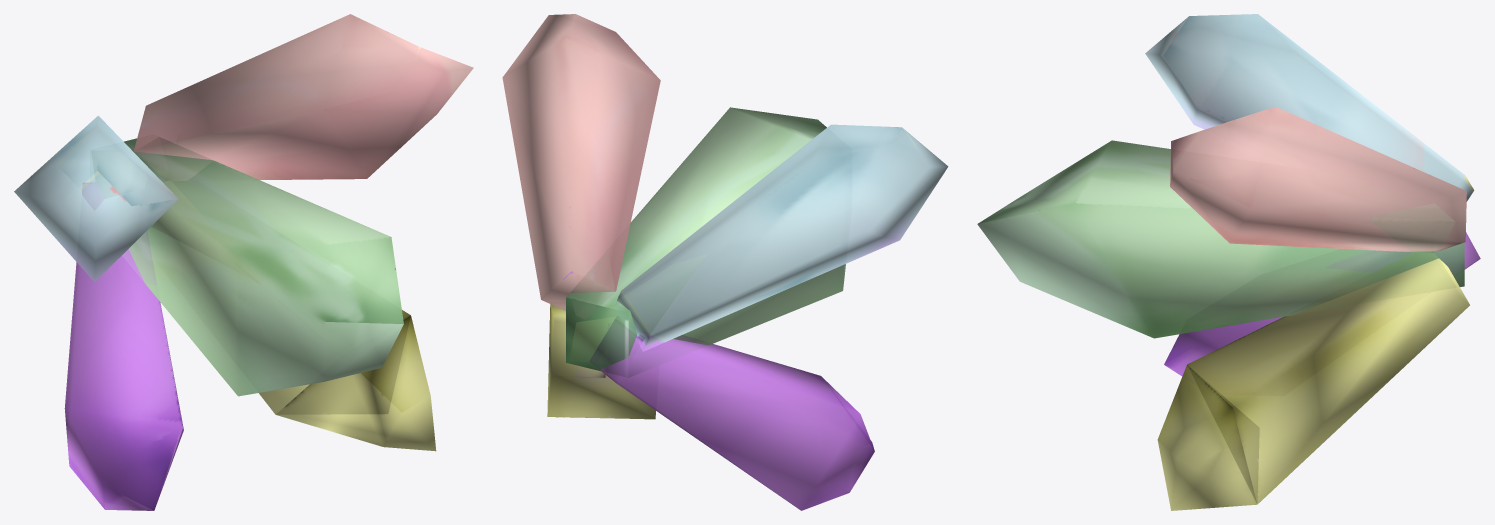
File: crystals.fbx
3 views of the same model, side by side, from view 1: azimuth 30°, elevation 25°; view 2: azimuth 150°, elevation 25°; view 3: azimuth 270°, elevation 25° (orthographic). The views are drawn at different scales.
Visible parts, largest first — view 1: Crytals; view 2: Crytals; view 3: Crytals.
Part boxes in pixels (<box>): Crytals: <box>14,14,473,510</box>; Crytals: <box>502,14,948,510</box>; Crytals: <box>977,14,1480,510</box>.
Size of the model in its own units: 6.06 by 5.9 by 6.76.
1 material, 1 textured.
